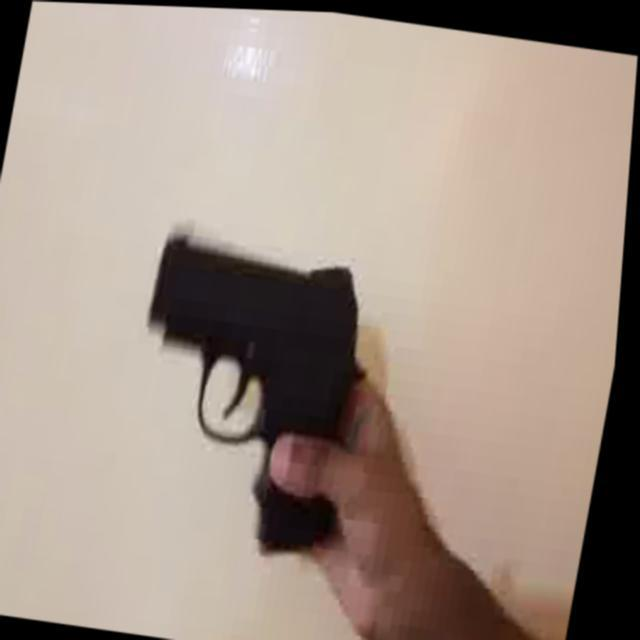weapon: (124, 225, 393, 506)
